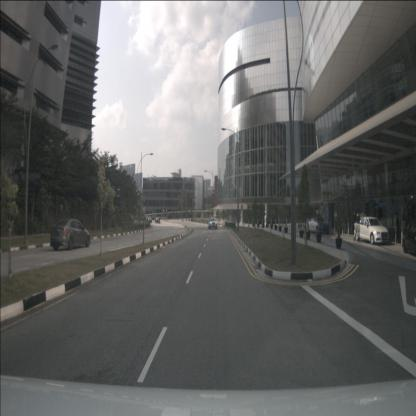human-pedestrian-adult: (353, 211, 362, 242), (396, 212, 400, 241)
vehicle-car: (50, 218, 91, 250), (354, 211, 390, 245), (306, 214, 330, 235), (402, 218, 415, 256), (208, 217, 217, 230), (155, 216, 160, 224), (148, 216, 152, 224)
